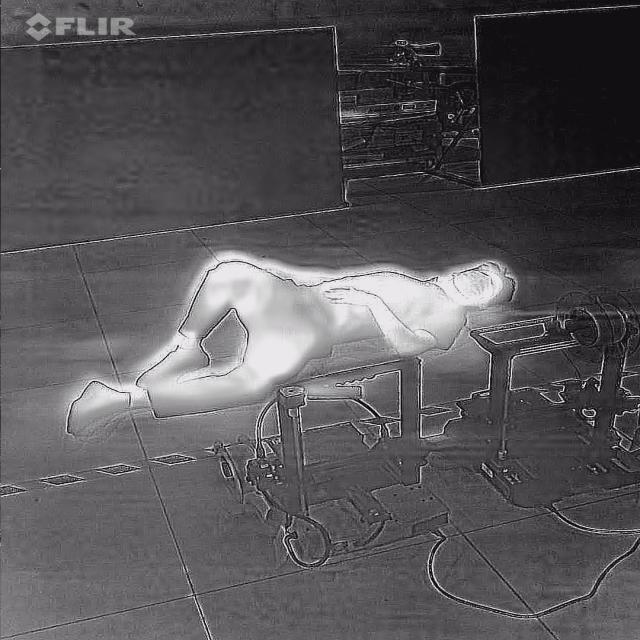Victim: (54, 238, 516, 443)
